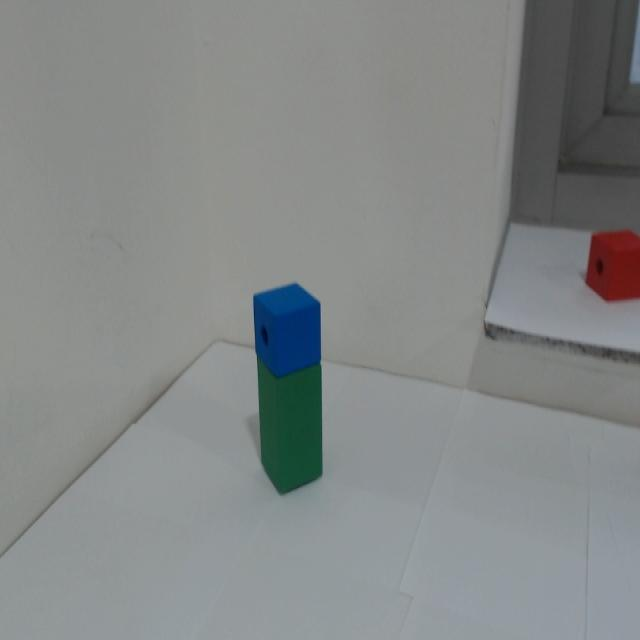cube: (236, 265, 349, 385), (264, 364, 343, 499)
